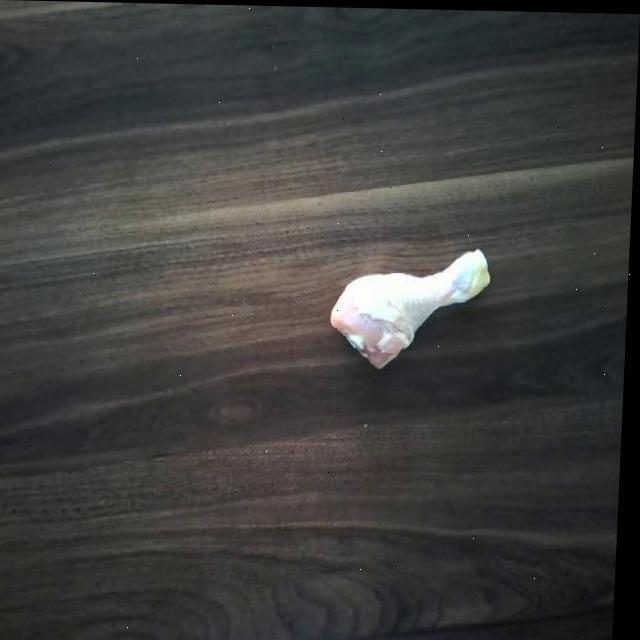leg: (330, 242, 497, 368)
